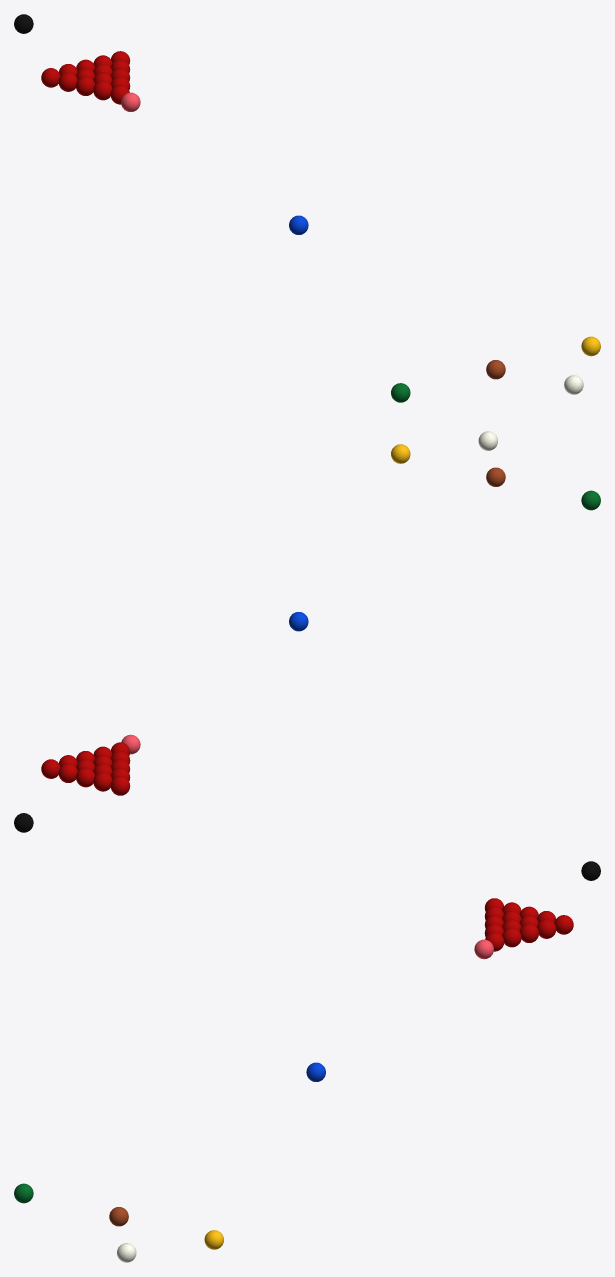
The model's file is balls.glb.
The picture shows the model from 3 angles, top to bottom: view 1: azimuth 30°, elevation 25°; view 2: azimuth 150°, elevation 25°; view 3: azimuth 330°, elevation 25°; orthographic projection.
Bounding box in the file's own units: 0.6363 × 0.0522 × 2.75.
Materials: 1 (1 with a texture image).
